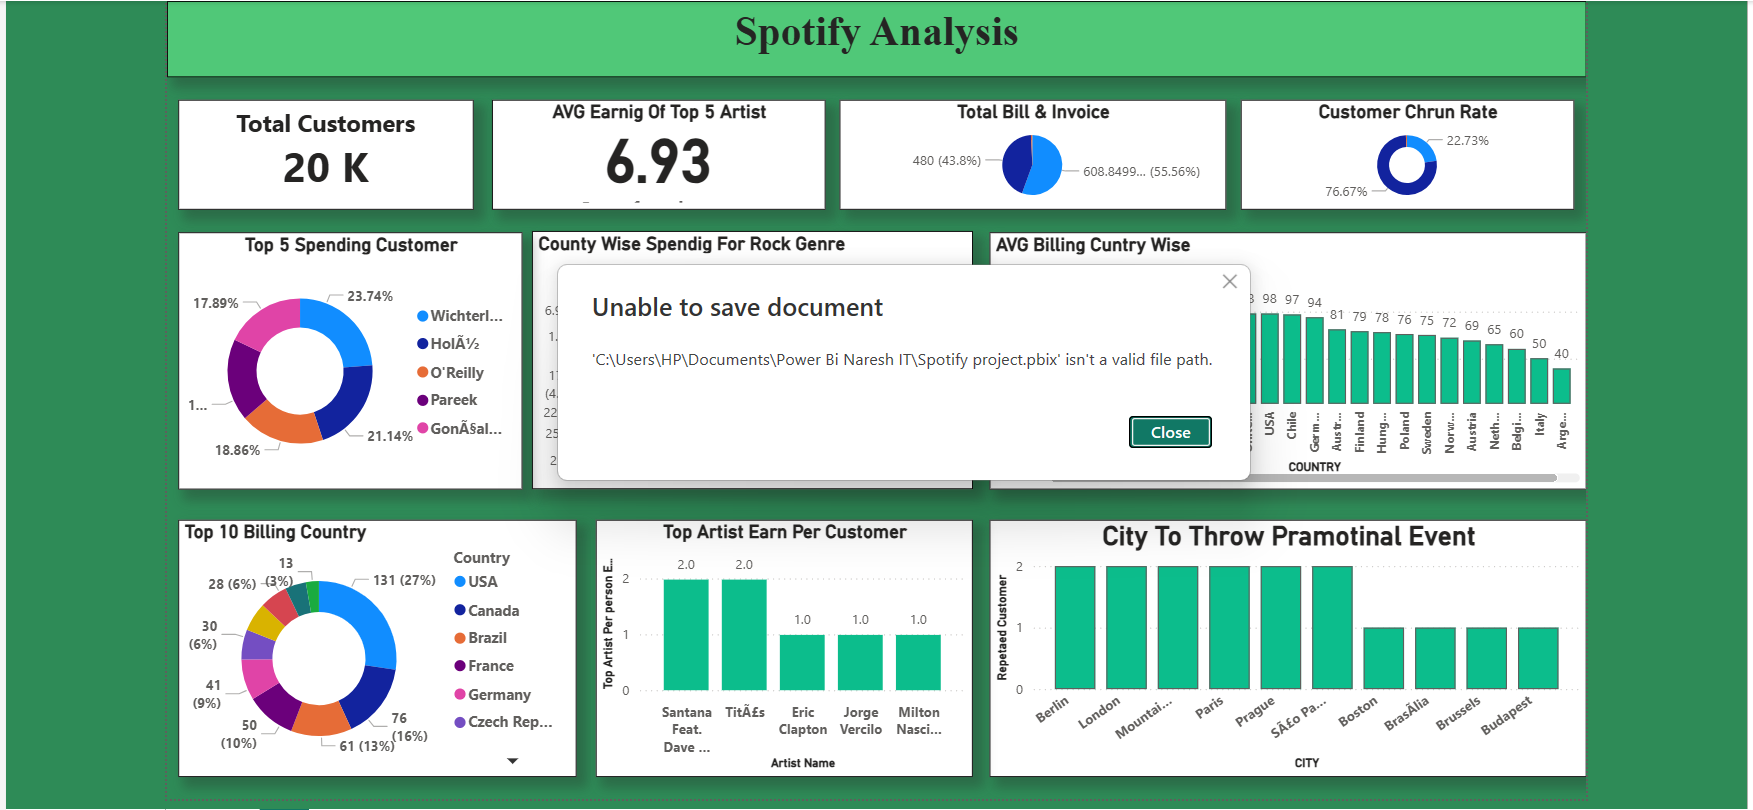

The dashboard page shown, as its layout file describes it:
{"tool":"powerbi","page":{"name":"Page 1","canvas":[1280,720],"ordinal":0},"visuals":[{"type":"textbox","box":[0,0,1280.3,68.6],"z":0},{"type":"clusteredColumnChart","title":"AVG Billing Cuntry Wise","fields":{"Category":["Country Wise Most Spendig Customers.billing_country"],"Y":["Sum(Country Wise Most Spendig Customers.total_spent)"]},"box":[741.1,208.6,538.7,231.9],"z":1000},{"type":"donutChart","title":"County Wise Spendig For Rock Genre","fields":{"Category":["Most Popular Genre For each Country.billing_country"],"Series":["Most Popular Genre For each Country.genre_name"],"Y":["Sum(Most Popular Genre For each Country.total_spent)"]},"box":[328.8,207.4,397.5,233.1],"z":2000},{"type":"donutChart","title":"Top 5 Spending Customer","fields":{"Y":["Sum(Most Spending Customers.total_spent)"],"Category":["Most Spending Customers.last_name"]},"box":[9.8,208.6,310.4,231.9],"z":3000},{"type":"columnChart","title":"City To Throw Pramotinal Event","fields":{"Category":["Throw Pramotinal Events.city"],"Y":["Sum(Throw Pramotinal Events.frequent_customers)"]},"box":[741.1,467.5,538.7,231.9],"z":4000},{"type":"donutChart","title":"Top 10 Billing Country","fields":{"Category":["Top 10 Countty With Invoices.billing_country"],"Y":["Sum(Top 10 Countty With Invoices.most_invoice)"]},"box":[9.8,467.5,359.5,231.9],"z":5000},{"type":"clusteredColumnChart","title":"Top Artist Earn Per Customer","fields":{"Category":["Top 5 Artist earmig per customer.artist_name"],"Y":["Sum(Top 5 Artist earmig per customer.total_spent)"]},"box":[386.5,467.5,339.9,231.9],"z":6000},{"type":"card","title":"AVG Earnig Of Top 5 Artist","fields":{"Values":["Sum(Top 5 Artist earmig per customer.total_spent)"]},"box":[293.3,89.6,300.6,99.4],"z":7000},{"type":"pieChart","title":"Total Bill & Invoice","fields":{"Y":["Sum(Most Spending Customers.total_spent)","Sum(Top 10 Countty With Invoices.most_invoice)","Sum(Top 5 Artist earmig per customer.total_spent)"]},"box":[606.1,89.6,348.5,99.4],"z":8000},{"type":"donutChart","title":"Customer Chrun Rate","fields":{"Y":["Sum(Most Spending Customers.total_spent)","Sum(Country Wise Most Spendig Customers.total_spent)","Sum(Throw Pramotinal Events.frequent_customers)"]},"box":[968.1,89.6,300.6,99.4],"z":9000},{"type":"textbox","box":[9.8,89.6,266.3,99.4],"z":10000}]}

Visuals, with their boxes in screenshot pixels (x1, y1, x2, y2):
textbox: x1=164, y1=0, x2=1581, y2=71
"AVG Billing Cuntry Wise" clusteredColumnChart: x1=985, y1=226, x2=1581, y2=483
"County Wise Spendig For Rock Genre" donutChart: x1=528, y1=225, x2=968, y2=483
"Top 5 Spending Customer" donutChart: x1=175, y1=226, x2=519, y2=483
"City To Throw Pramotinal Event" columnChart: x1=985, y1=513, x2=1581, y2=769
"Top 10 Billing Country" donutChart: x1=175, y1=513, x2=573, y2=769
"Top Artist Earn Per Customer" clusteredColumnChart: x1=592, y1=513, x2=968, y2=769
"AVG Earnig Of Top 5 Artist" card: x1=489, y1=95, x2=822, y2=205
"Total Bill & Invoice" pieChart: x1=835, y1=95, x2=1221, y2=205
"Customer Chrun Rate" donutChart: x1=1236, y1=95, x2=1568, y2=205
textbox: x1=175, y1=95, x2=470, y2=205
